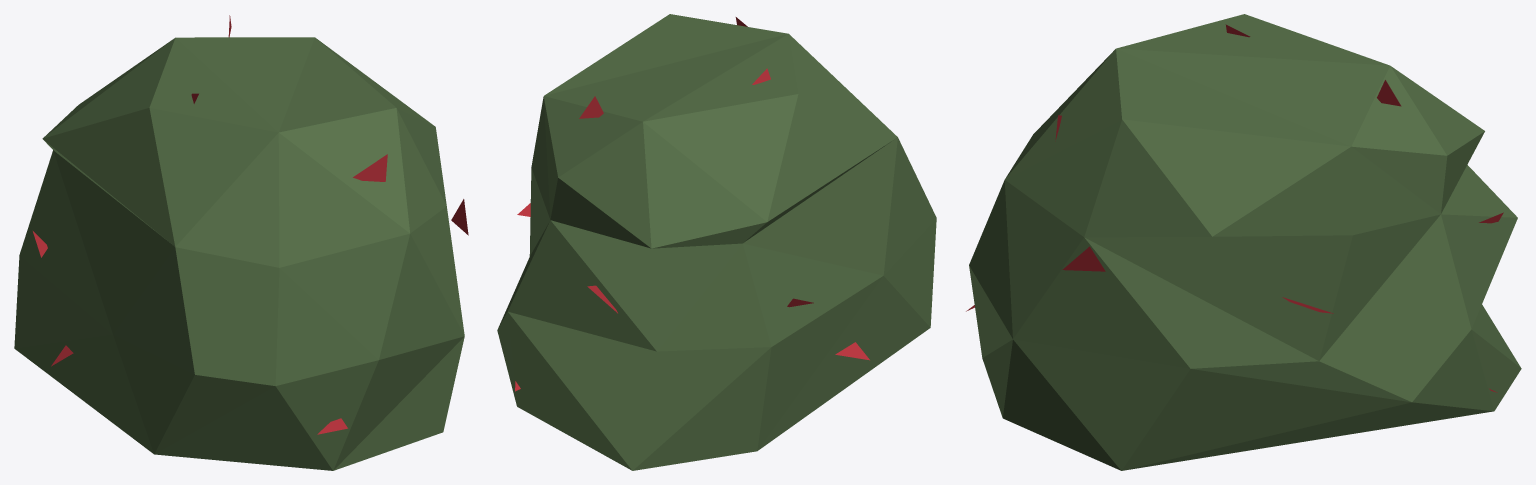
Rendered from BushBerries_1.lod3.glb.
3 views of the same model, side by side, from view 1: azimuth 30°, elevation 25°; view 2: azimuth 150°, elevation 25°; view 3: azimuth 270°, elevation 25° (orthographic). The views are drawn at different scales.
Visible parts, largest first — view 1: BushBerries_1; view 2: BushBerries_1; view 3: BushBerries_1.
Part boxes in pixels (x1=…): BushBerries_1: x1=14, y1=15, x2=468, y2=470; BushBerries_1: x1=497, y1=14, x2=936, y2=470; BushBerries_1: x1=966, y1=14, x2=1521, y2=470.
Bounding box in the file's own units: 1.38 × 1.24 × 1.72.
